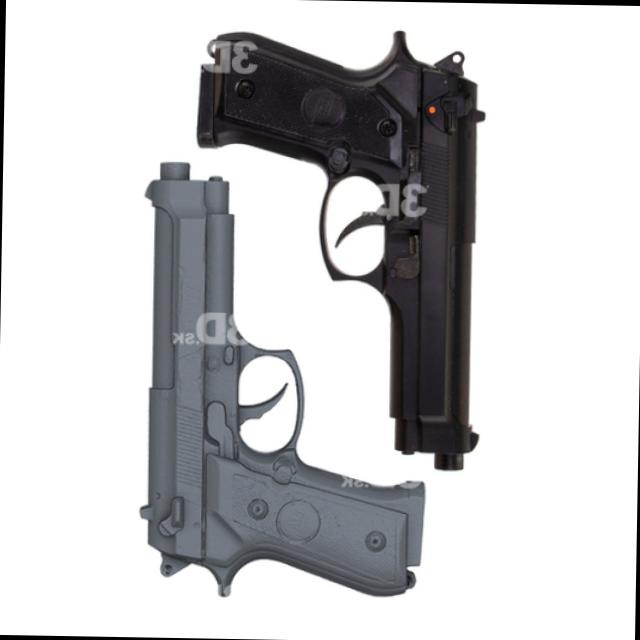Gun: (104, 134, 433, 616), (196, 0, 508, 507)
